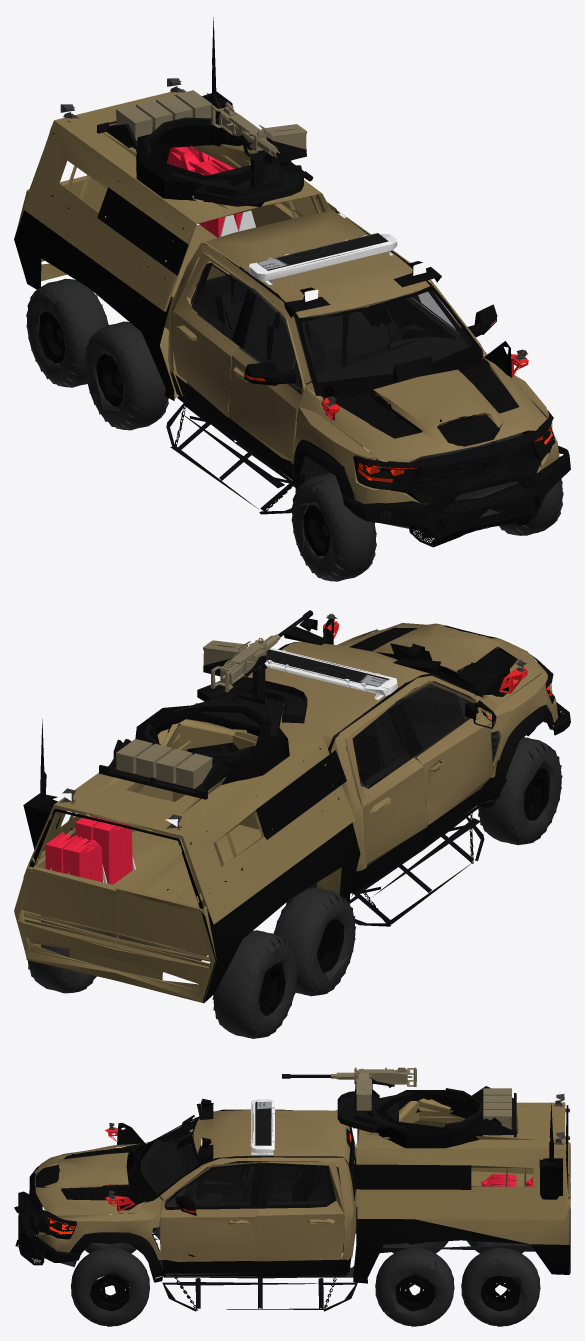
Rendered from truck.glb.
3 views of the same model, one above another, from view 1: azimuth 30°, elevation 25°; view 2: azimuth 150°, elevation 25°; view 3: azimuth 270°, elevation 25° (orthographic). The views are drawn at different scales.
Visible parts, largest first — view 1: TruckBody, TruckGun_mesh, Wheel_ML_mesh, Wheel_FL_mesh, Wheel_BL_mesh, Wheel_FR_mesh; view 2: TruckBody, TruckGun_mesh, Wheel_BL_mesh, Wheel_ML_mesh, Wheel_FL_mesh, Wheel_BR_mesh; view 3: TruckBody, TruckGun_mesh, Wheel_BR_mesh, Wheel_MR_mesh, Wheel_FR_mesh, Wheel_FL_mesh.
Boxes of the visible parts, box(x1,y1,x2,y2) form: TruckBody: box(14, 17, 570, 547); TruckGun_mesh: box(96, 90, 313, 206); Wheel_ML_mesh: box(84, 321, 168, 430); Wheel_FL_mesh: box(291, 472, 376, 581); Wheel_BL_mesh: box(26, 278, 108, 387); Wheel_FR_mesh: box(499, 473, 563, 535); TruckBody: box(14, 613, 570, 1003); TruckGun_mesh: box(99, 610, 313, 799); Wheel_BL_mesh: box(212, 930, 297, 1038); Wheel_ML_mesh: box(273, 887, 355, 996); Wheel_FL_mesh: box(477, 737, 562, 845); Wheel_BR_mesh: box(26, 915, 96, 993); TruckBody: box(14, 1090, 570, 1311); TruckGun_mesh: box(282, 1067, 516, 1137); Wheel_BR_mesh: box(461, 1247, 540, 1326); Wheel_MR_mesh: box(375, 1247, 454, 1326); Wheel_FR_mesh: box(71, 1247, 149, 1326); Wheel_FL_mesh: box(85, 1213, 136, 1253).
Bounding box in the file's own units: 1.26 × 1.45 × 3.3.
23 materials, 1 textured.
